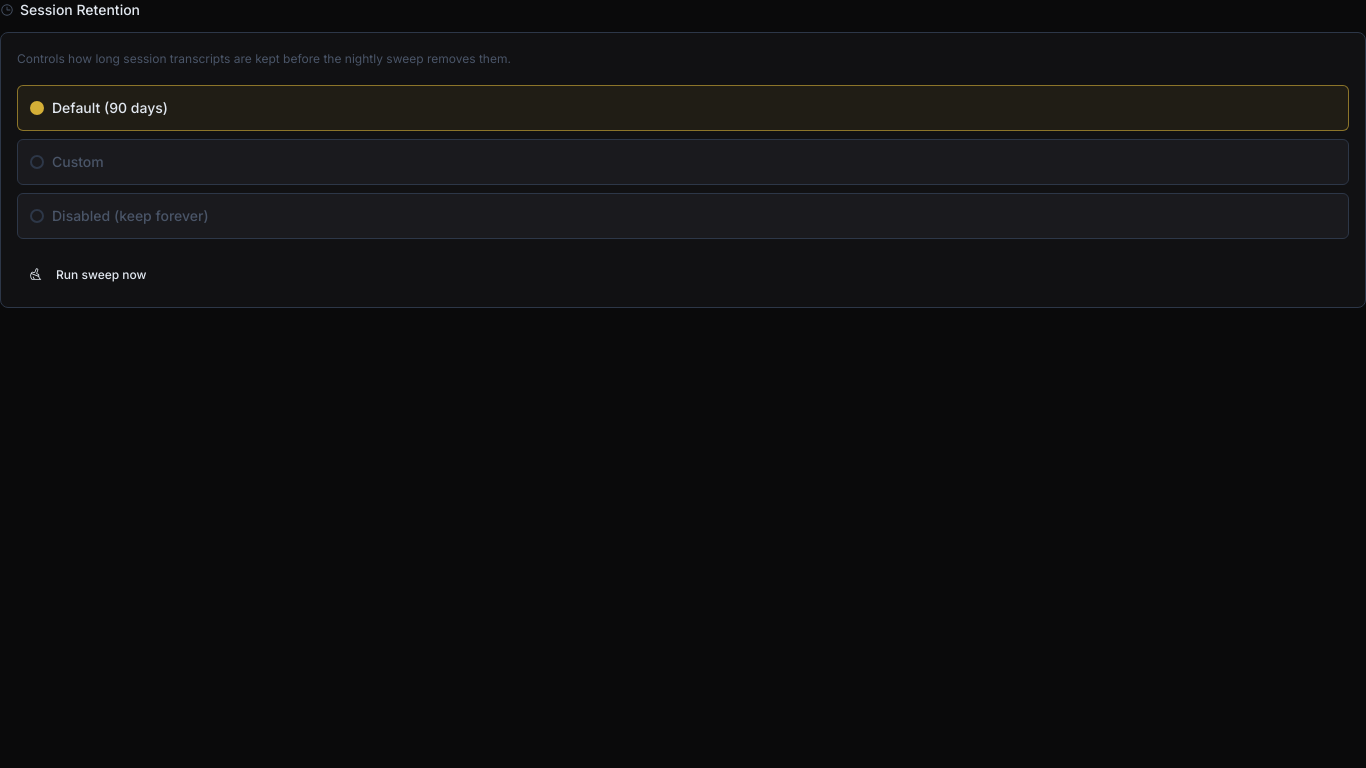
Test case: RetentionSection — disabled mode confirmation modal › clicking Disabled (forever) shows confirmation modal before saving
Click the radio button labelled "Disabled (keep forever)" at (130, 215), box 17,192 -> 1349,238
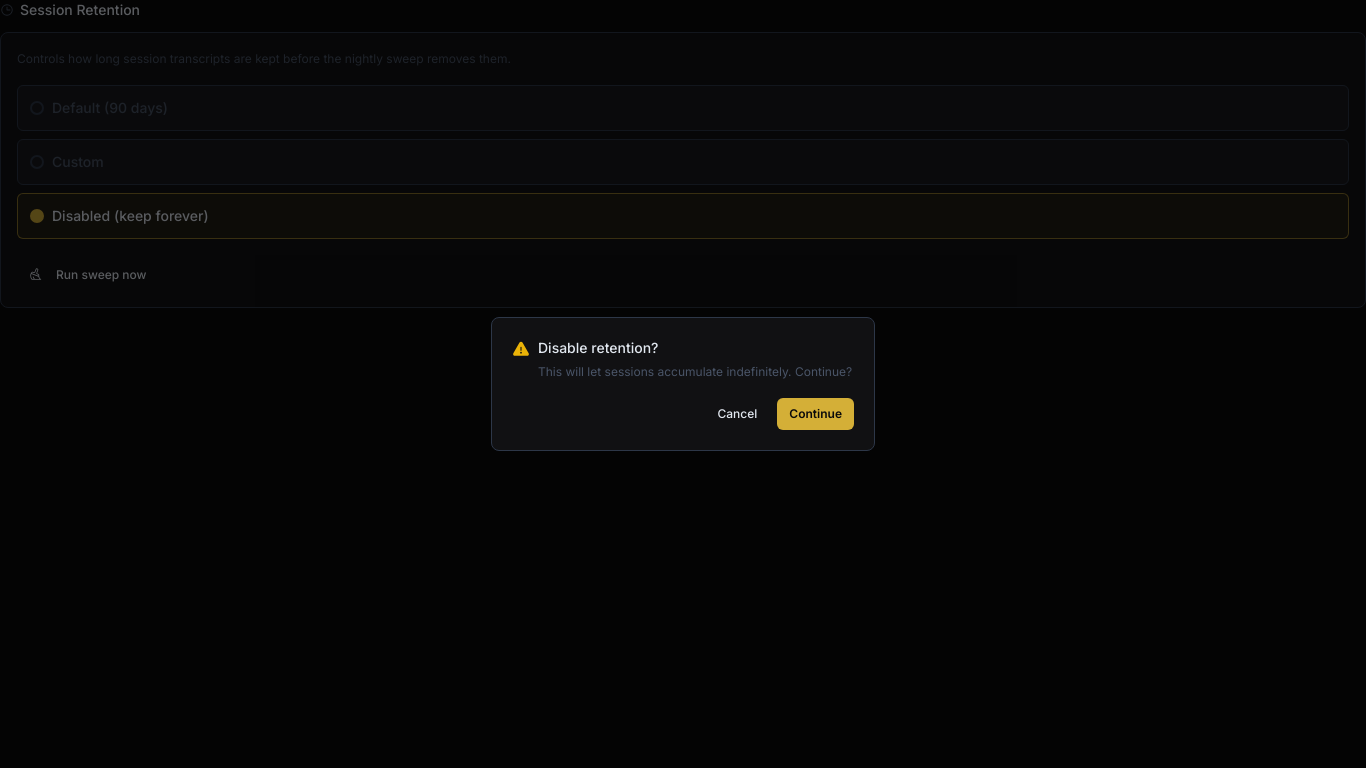
Now the dialog is shown
Now the text "This will let sessions accumulate indefinitely. Continue?" is shown, box 538,362 -> 852,382
